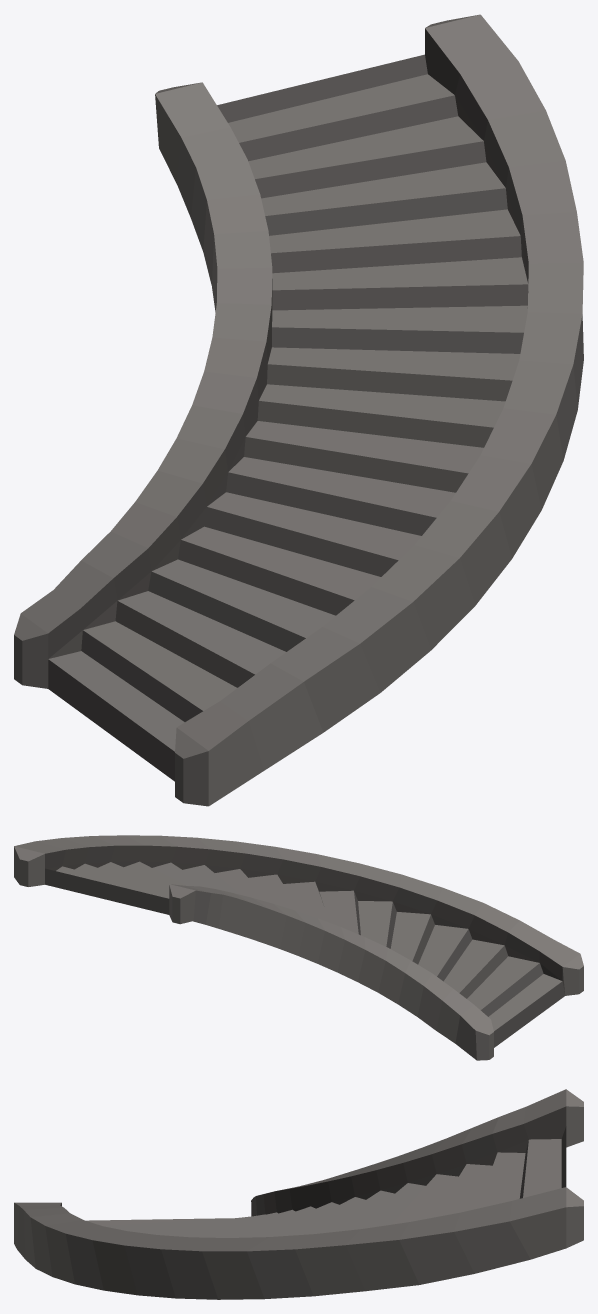
File: SD_Env_Stairs_Spiral_01.fbx
The picture shows the model from 3 angles, top to bottom: view 1: azimuth 30°, elevation 25°; view 2: azimuth 150°, elevation 25°; view 3: azimuth 270°, elevation 25°; orthographic projection. The views are drawn at different scales.
Visible parts, largest first — view 1: SD_Env_Stairs_Spiral_01; view 2: SD_Env_Stairs_Spiral_01; view 3: SD_Env_Stairs_Spiral_01.
Boxes of the visible parts, x1,y1,x2,y2 form: SD_Env_Stairs_Spiral_01: (14, 14, 583, 806); SD_Env_Stairs_Spiral_01: (14, 835, 583, 1060); SD_Env_Stairs_Spiral_01: (14, 1089, 583, 1299).
Bounding box in the file's own units: 10.24 × 5.39 × 10.32.
